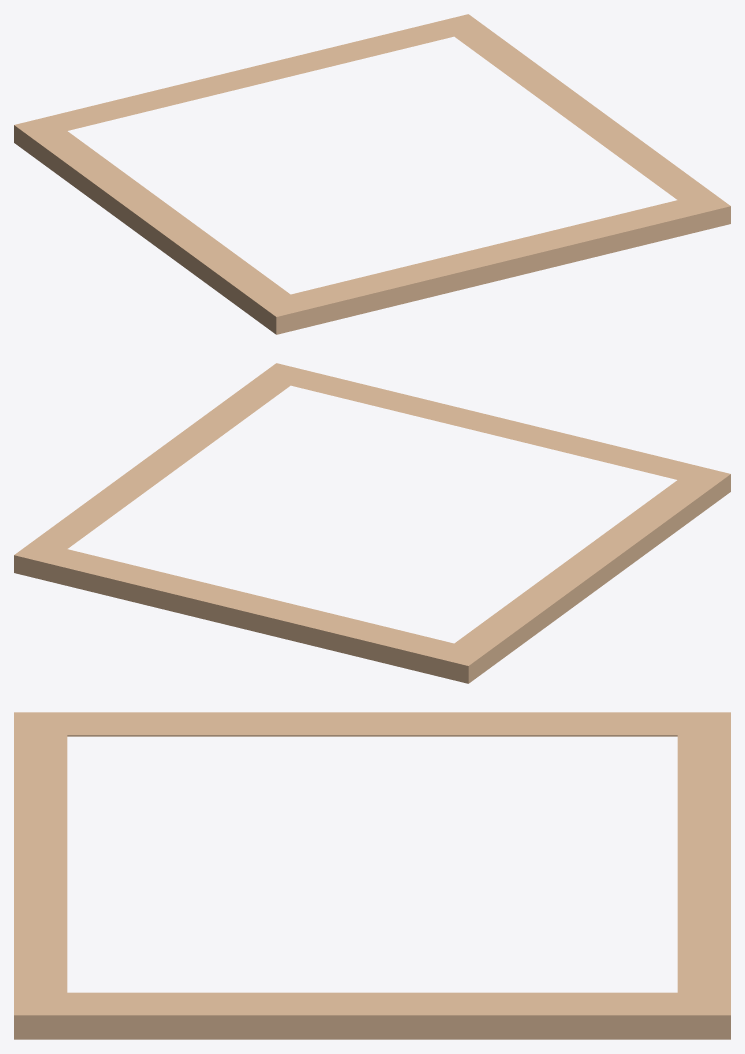
File: ChessFrameBlendshape.fbx
3 renders of one model, top to bottom at view 1: azimuth 30°, elevation 25°; view 2: azimuth 150°, elevation 25°; view 3: azimuth 270°, elevation 25°, orthographic. The views are drawn at different scales.
Visible parts, largest first — view 1: Chess_Ground_Long; view 2: Chess_Ground_Long; view 3: Chess_Ground_Long.
Part boxes in pixels (left/top/right/bottom): Chess_Ground_Long: left=14, top=14, right=730, bottom=334; Chess_Ground_Long: left=14, top=363, right=730, bottom=683; Chess_Ground_Long: left=14, top=712, right=730, bottom=1039.
Bounding box in the file's own units: 18.14 × 0.6802 × 18.14.
